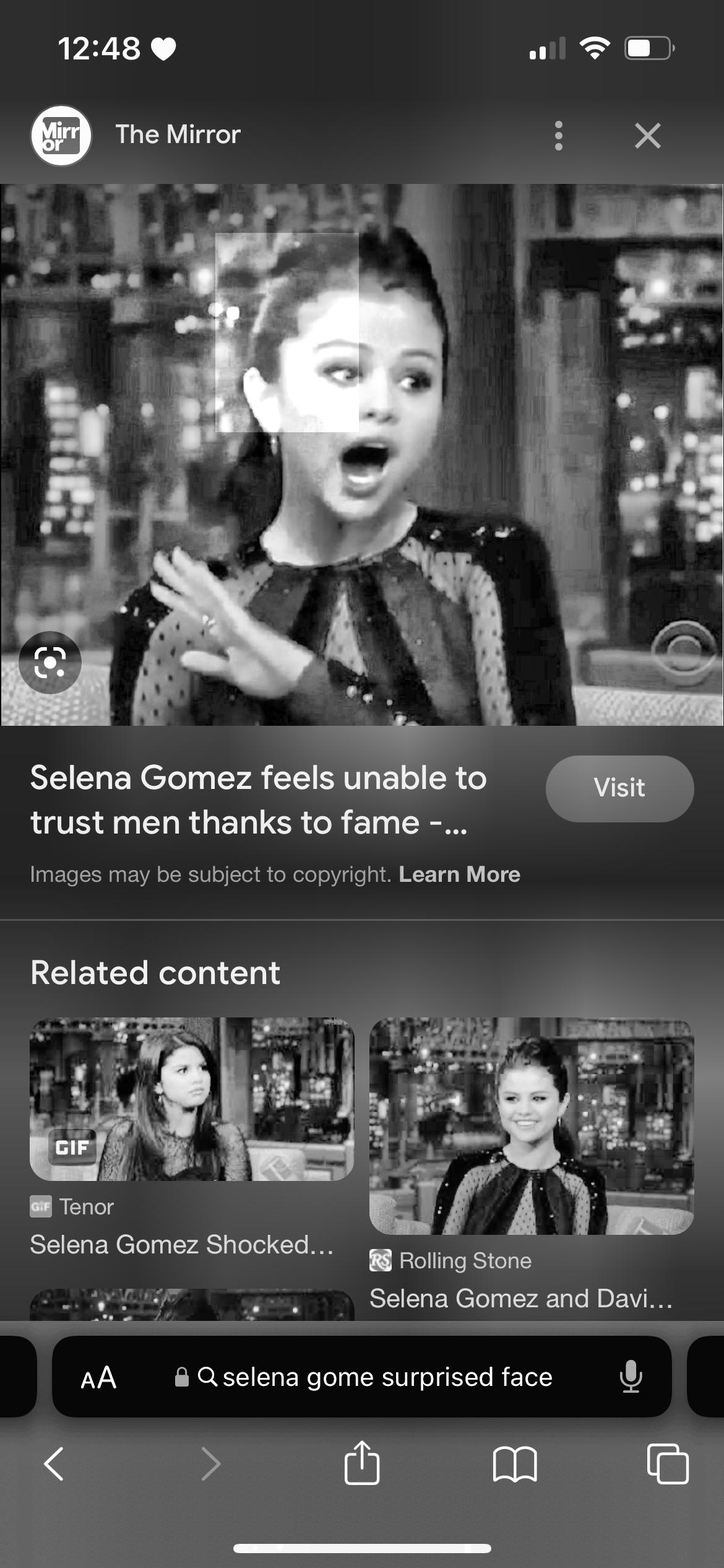surprised: (267, 288, 444, 535)
